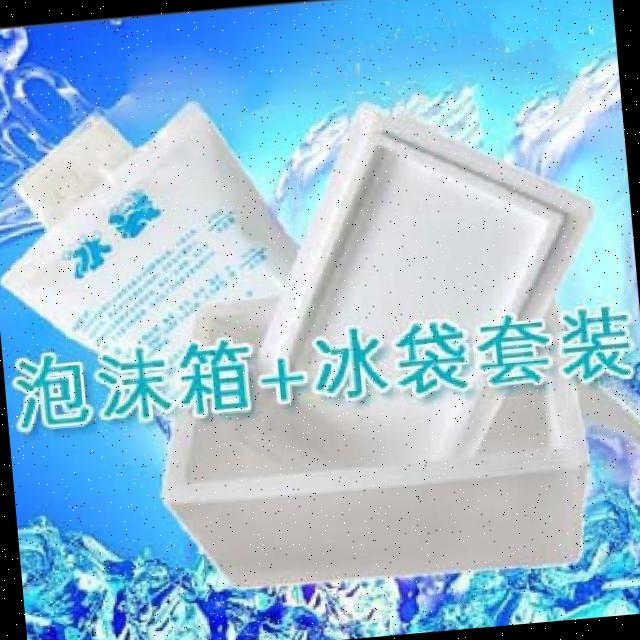styrofoam: (126, 82, 624, 600)
